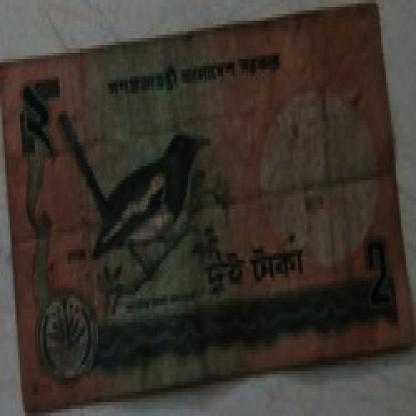two taka: (17, 73, 63, 159), (356, 233, 394, 322)
